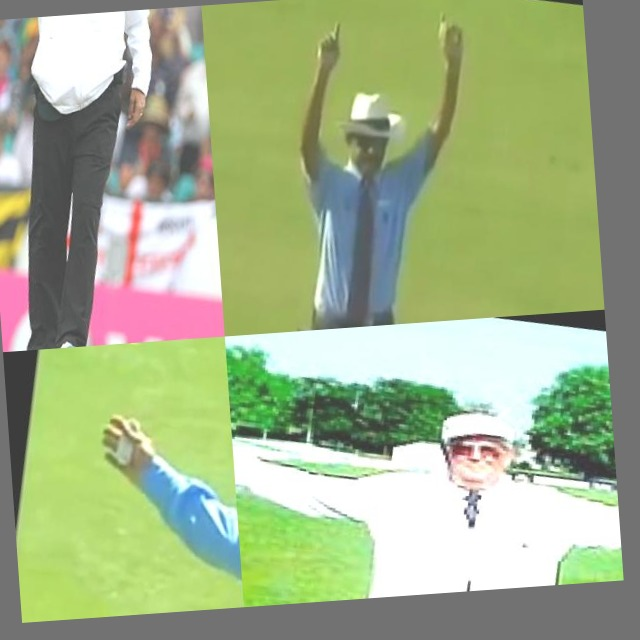No_Ball: (0, 6, 219, 352)
Six: (208, 0, 498, 336)
Wide: (226, 330, 624, 607), (45, 345, 244, 620)
